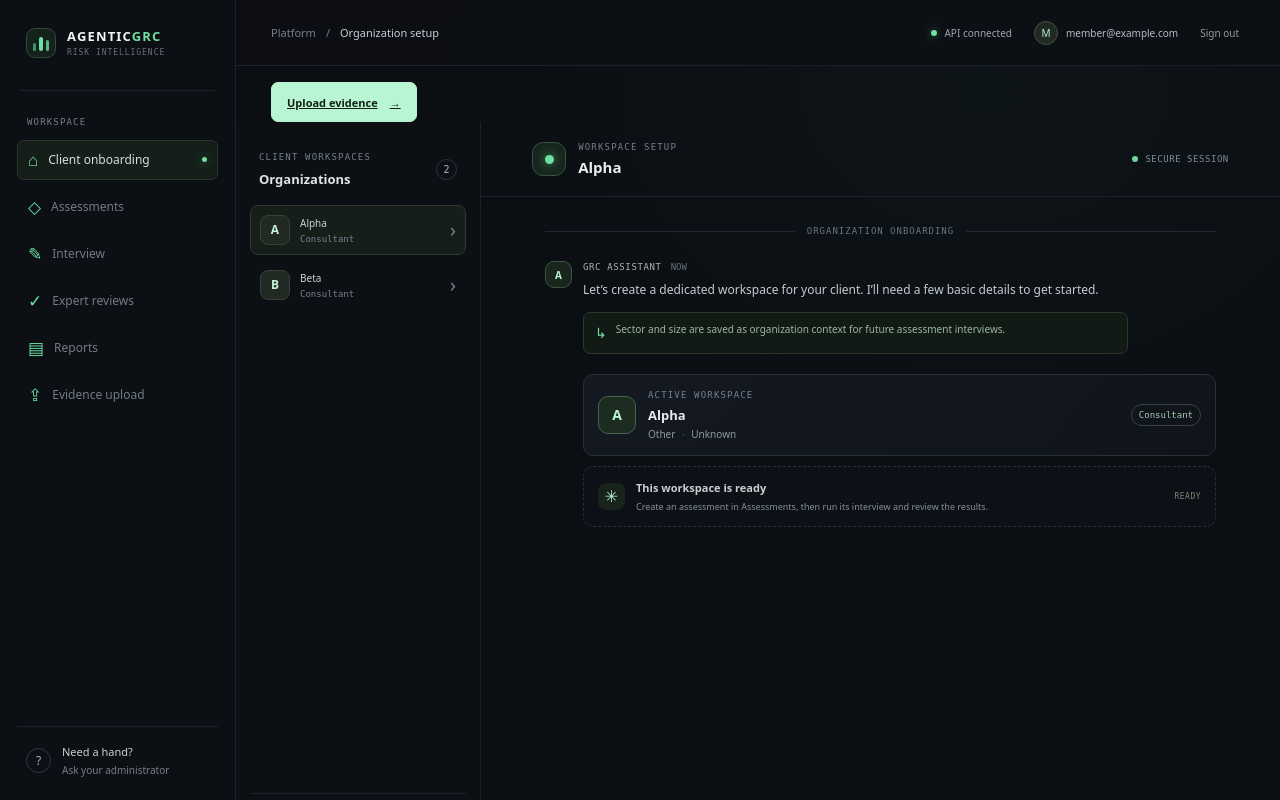
Test: App sign-in options › preserves the selected workspace when navigating to evidence and back
This screenshot has width=1280, height=800.
Step 1. Click the button "B Beta consultant ›" → (358, 285), box [250, 260, 466, 310]
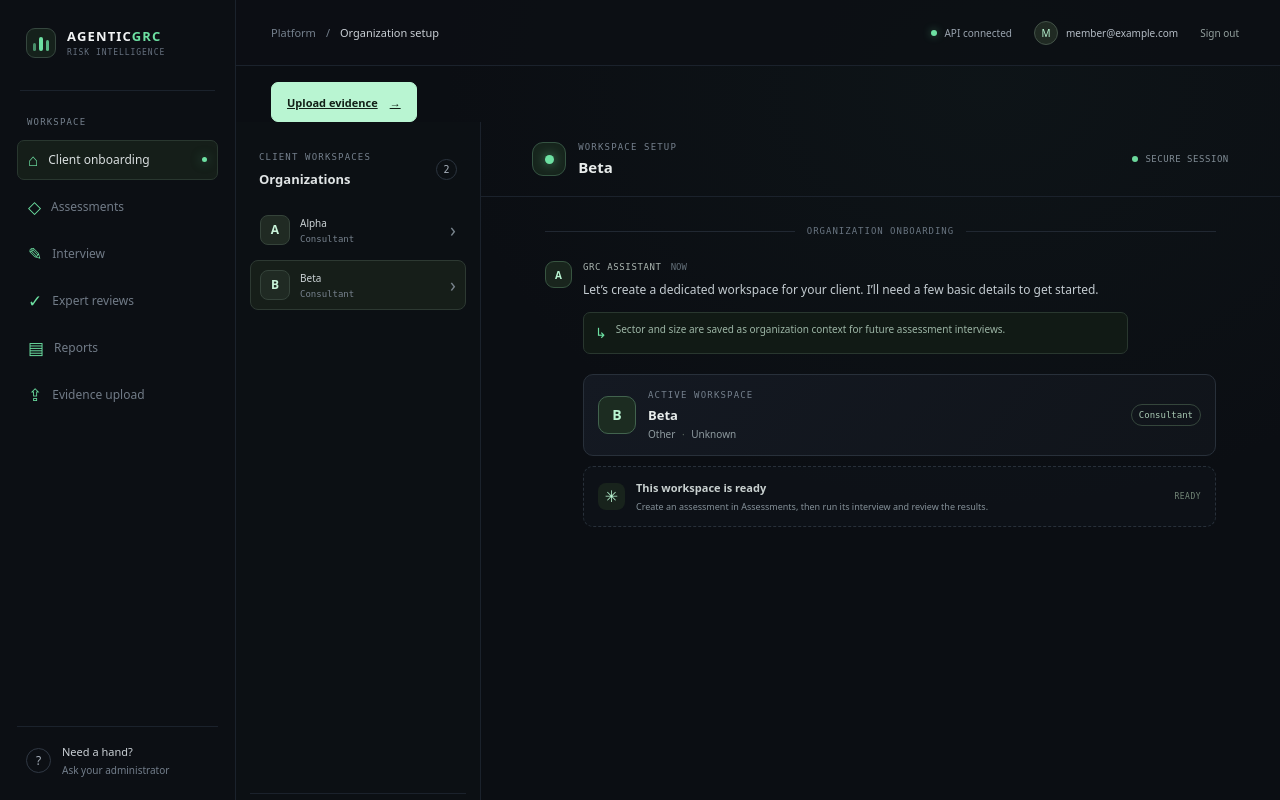
Step 2. Click the link "Upload evidence →" → (344, 102), box [271, 82, 417, 122]
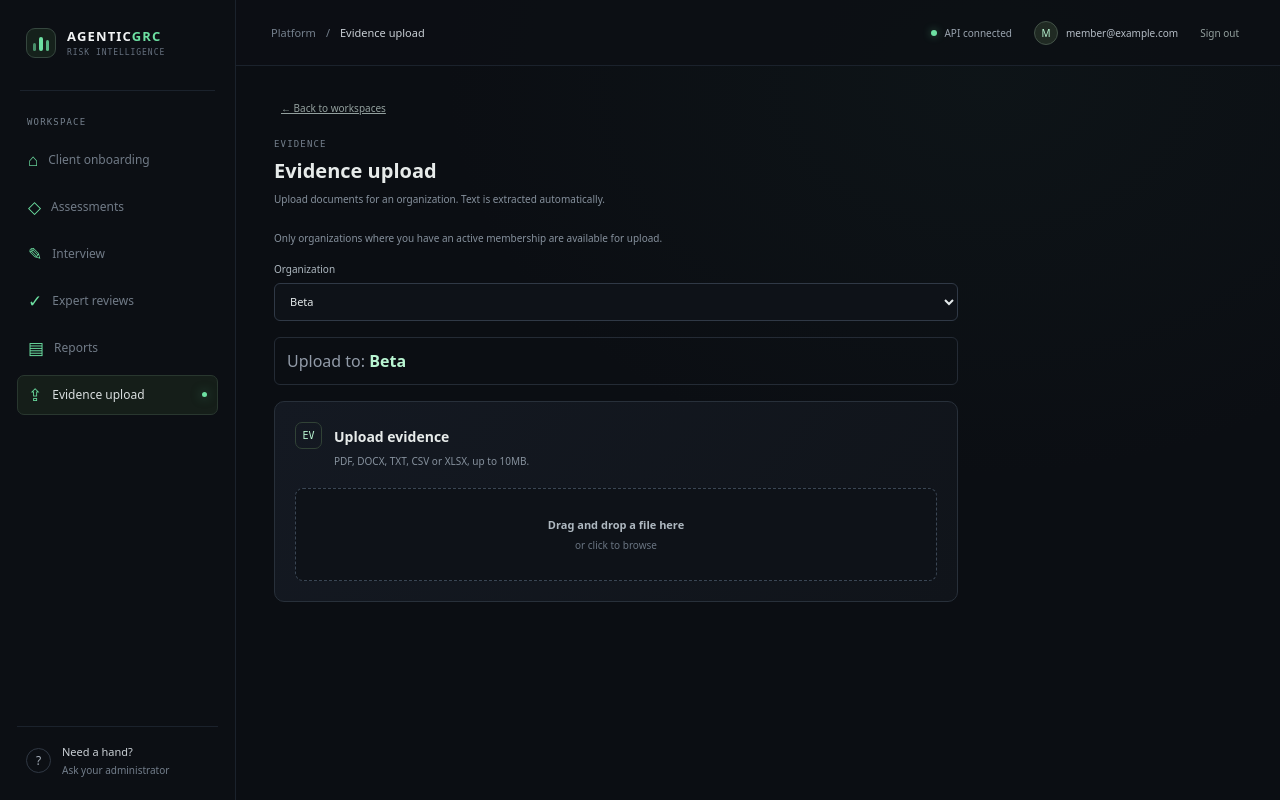
Now the dropdown shows "Beta", box [274, 283, 958, 321]
Step 3. Click the link "← Back to workspaces" → (333, 108), box [281, 101, 386, 115]
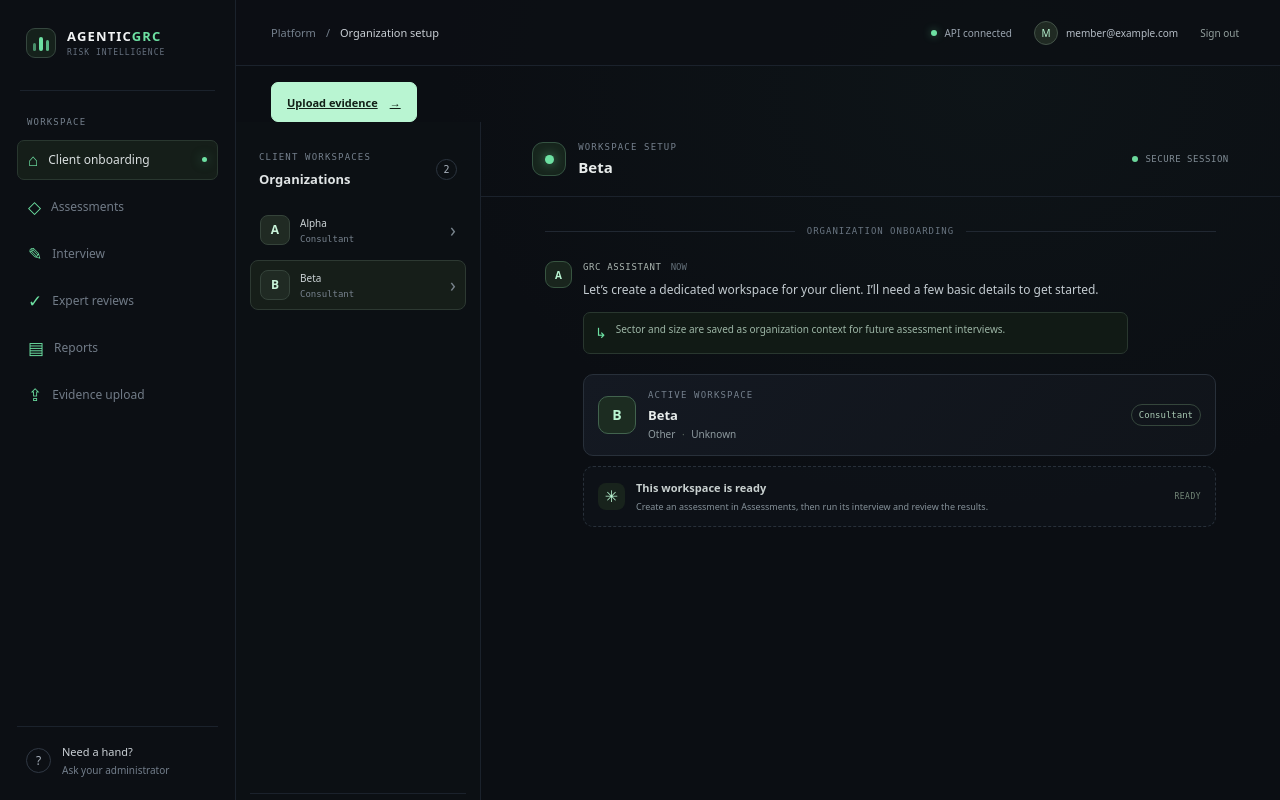
Now the heading "Beta" below "WORKSPACE SETUP" is shown, box [578, 157, 613, 177]
